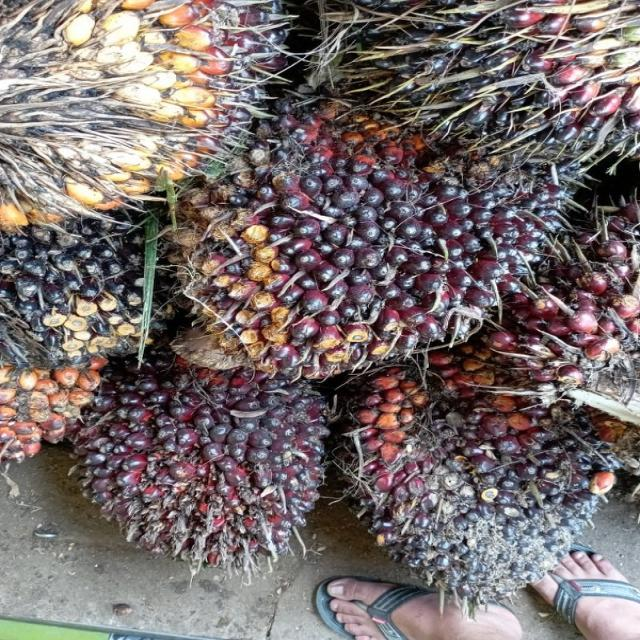fraksi 00: (0, 213, 158, 372)
fraksi 1: (166, 99, 575, 382), (337, 365, 603, 576), (90, 369, 326, 562)
